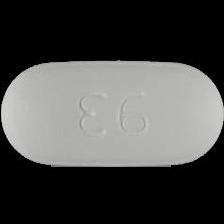61786-176: (0, 0, 224, 224)
